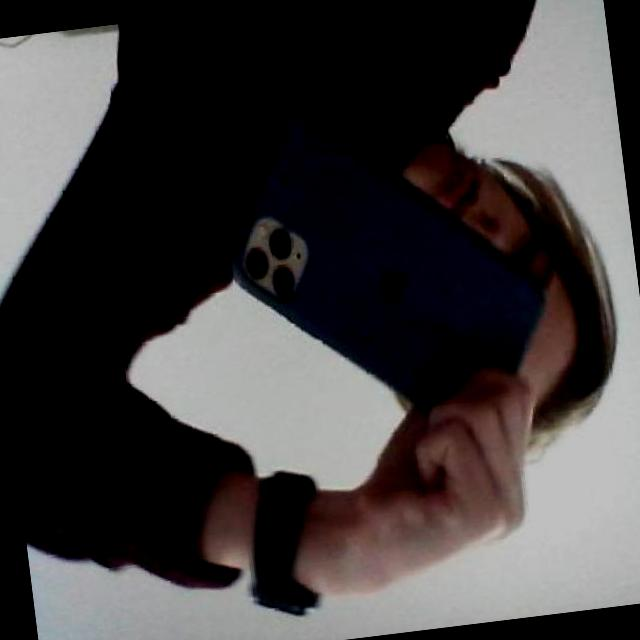lens_back: (264, 226, 294, 262), (267, 263, 297, 298), (242, 245, 272, 280)
phone: (204, 68, 560, 455)
